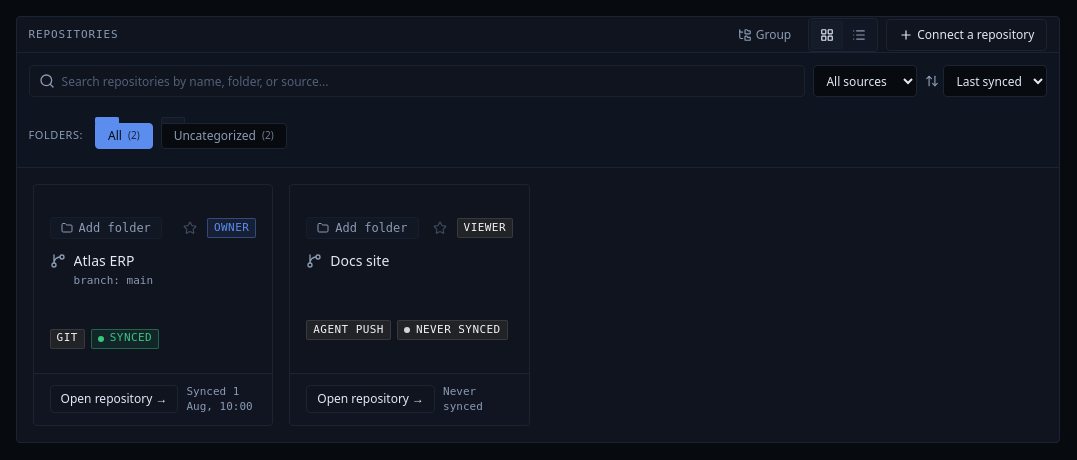
Test: ReposPage › filters repositories by search term
The image size is (1077, 460).
Expected: the link "Atlas ERP" is shown, [74, 251, 134, 270]
Expected: the link "Docs site" is shown, [330, 251, 389, 270]
Type "Atlas" into the field labelled "Search repositories".
click(417, 81); type("Atlas")  # box [29, 65, 805, 97]
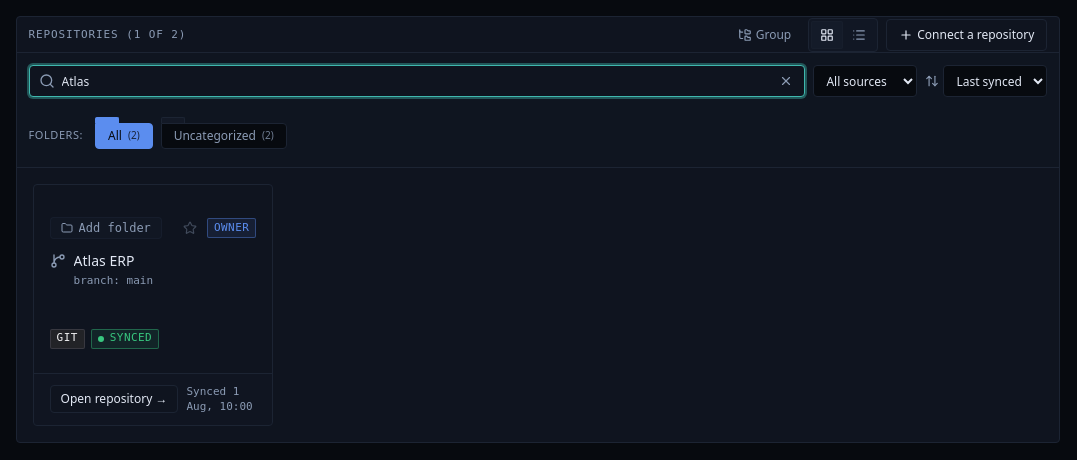
Expected: the link "Atlas ERP" is shown, [74, 251, 134, 270]
Expected: the link "Docs site" is gone
